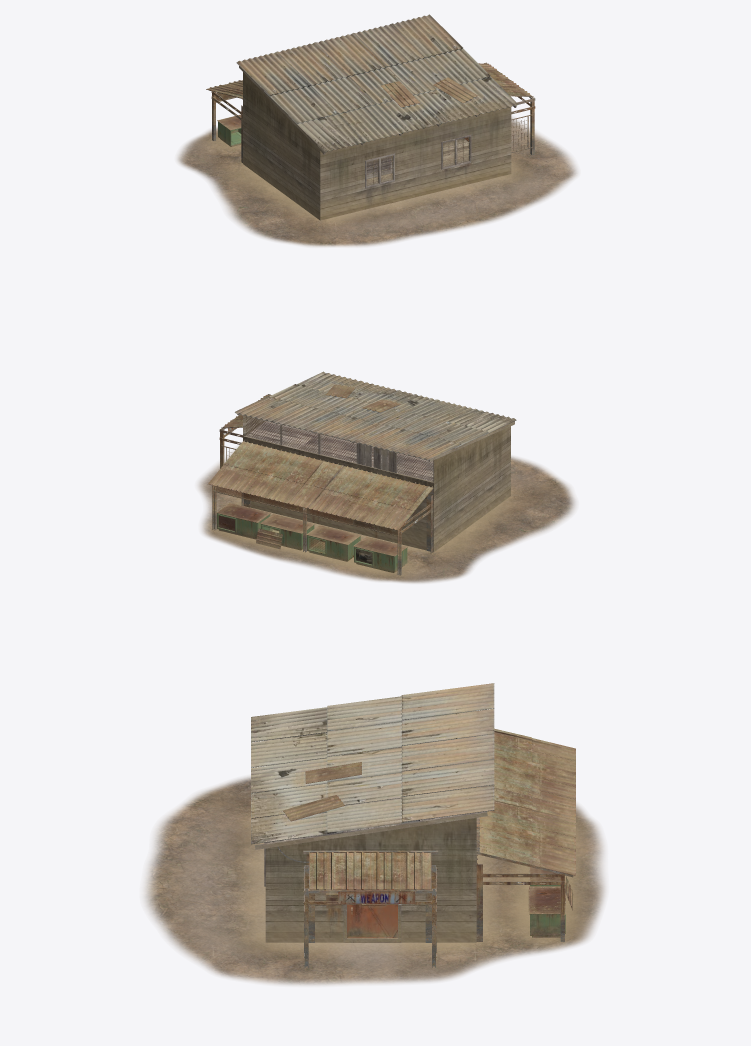
The picture shows the model from 3 angles, top to bottom: view 1: azimuth 30°, elevation 25°; view 2: azimuth 150°, elevation 25°; view 3: azimuth 270°, elevation 25°; orthographic projection. The views are drawn at different scales.
Visible parts, largest first — view 1: Roof, Plane, Wall, Woods, Irons, Environments; view 2: Roof, Plane, Wall, Environments, Woods, Tiles, Irons; view 3: Roof, Plane, Wall, Environments, Irons, Woods.
Part boxes in pixels (x1,y1,x2,y2): Roof: [206, 14, 531, 152]; Plane: [177, 117, 577, 246]; Wall: [243, 72, 511, 220]; Woods: [239, 66, 516, 188]; Irons: [209, 62, 535, 162]; Environments: [216, 93, 527, 184]; Roof: [208, 371, 516, 549]; Plane: [197, 447, 575, 583]; Wall: [243, 415, 510, 552]; Environments: [216, 427, 407, 572]; Woods: [237, 413, 514, 481]; Tiles: [216, 416, 432, 553]; Irons: [209, 394, 433, 575]; Roof: [251, 683, 575, 910]; Plane: [144, 776, 605, 985]; Wall: [265, 711, 476, 942]; Environments: [277, 846, 565, 938]; Irons: [303, 736, 573, 967]; Woods: [254, 711, 487, 942].
Size of the model in its own units: 48 by 9.87 by 48.
Materials: 8 (8 with a texture image).
